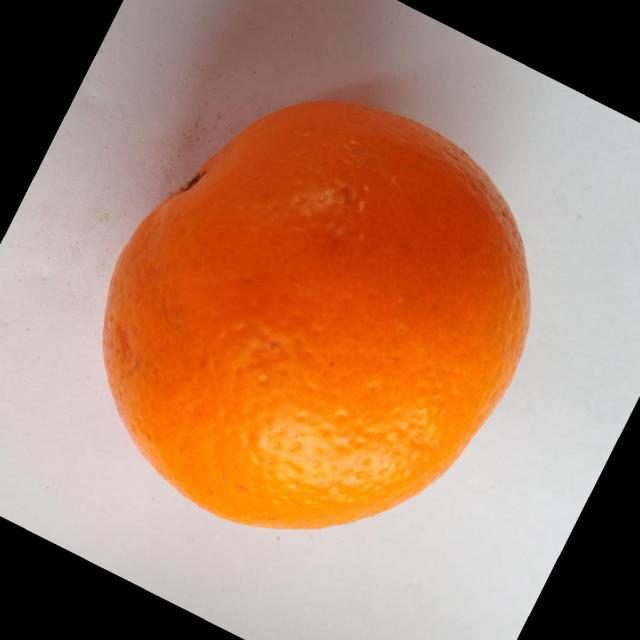fresh orange: (101, 98, 531, 531)
